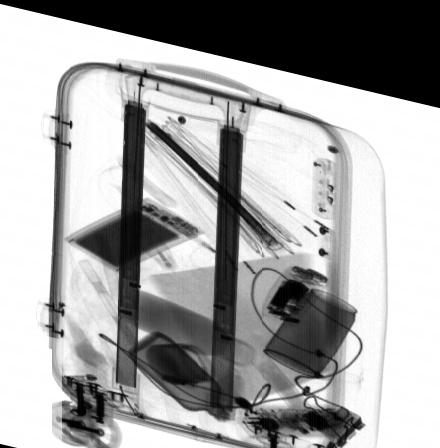Powerbank: (63, 190, 204, 269)
